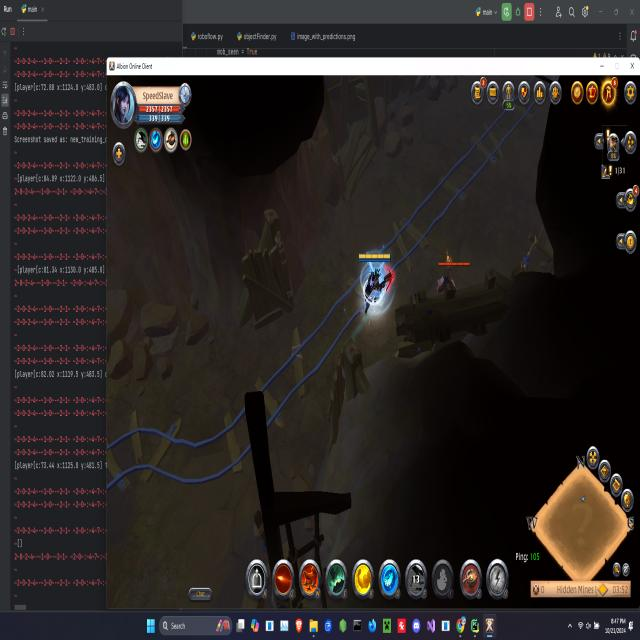ore: (434, 247, 474, 302)
red: (352, 241, 397, 318)
